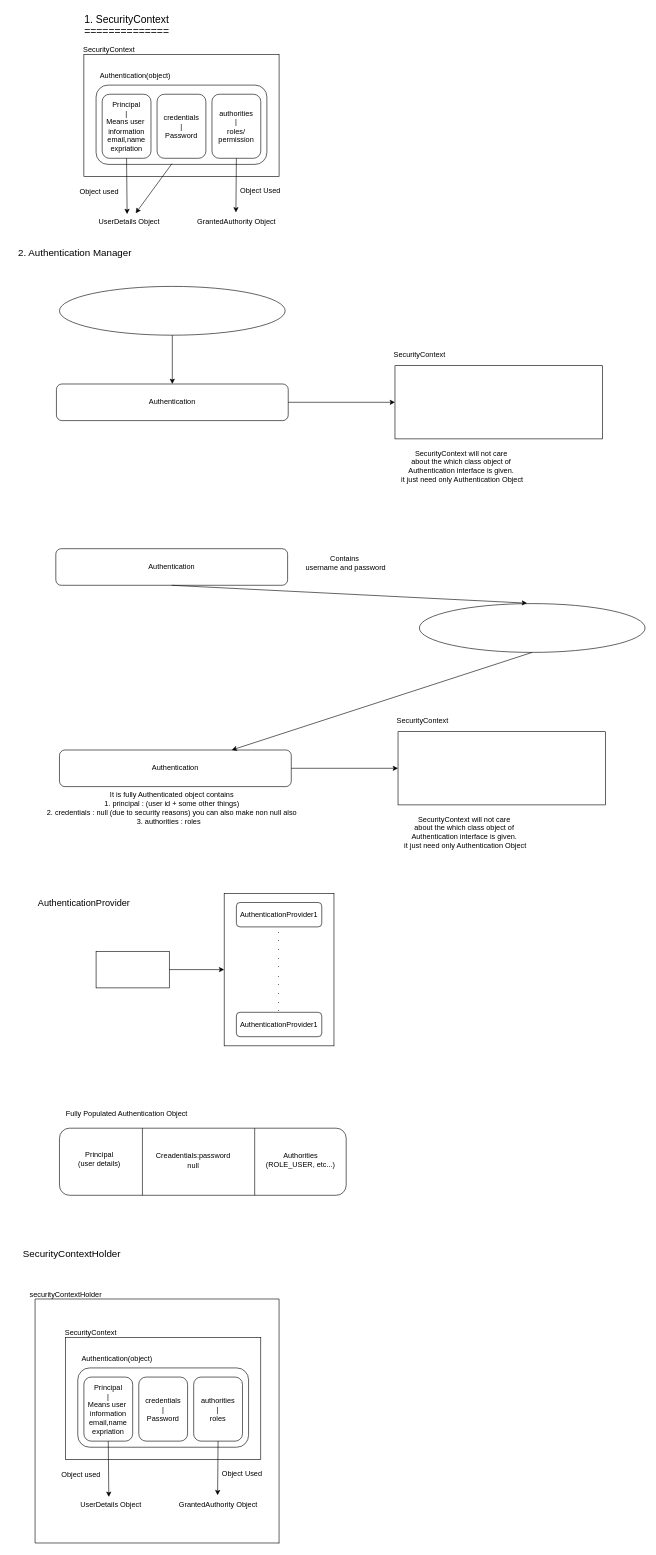
Image size: 656x1555. Some labels were removed from this diagram. Each missing label, with the centre of its shape:
"AuthenticationManager" goes at pixel 172 310.
"AuthenticationManager | authenticate(method)" goes at pixel 532 627.
"ProviderManager" goes at pixel 132 969.
